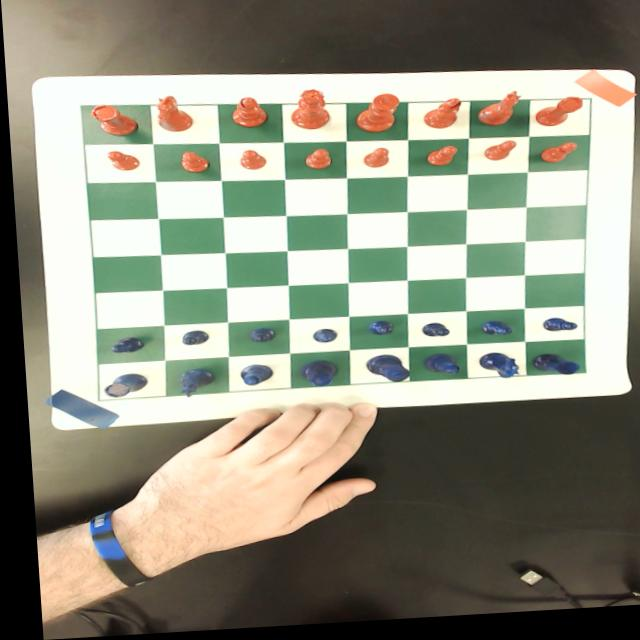B: (417, 358, 454, 382), (232, 367, 268, 390)
K: (359, 358, 404, 388)
N: (472, 357, 516, 385), (172, 370, 212, 400)
P: (104, 337, 139, 355), (535, 323, 573, 339), (472, 326, 509, 342), (415, 327, 445, 344), (305, 331, 333, 349), (174, 332, 205, 348), (242, 330, 271, 347), (362, 324, 389, 340)
Q: (295, 364, 332, 391)
R: (96, 374, 144, 402), (527, 358, 574, 384)
b: (420, 103, 461, 135), (227, 100, 264, 131)
k: (352, 98, 399, 138)
n: (473, 97, 521, 133), (153, 96, 193, 136)
p: (535, 148, 576, 170), (102, 151, 138, 173), (480, 146, 515, 168), (422, 150, 457, 172), (177, 153, 208, 176), (300, 152, 329, 174), (358, 152, 387, 173), (237, 152, 265, 173)
q: (286, 93, 328, 134)
r: (87, 104, 136, 139), (531, 103, 582, 134)
